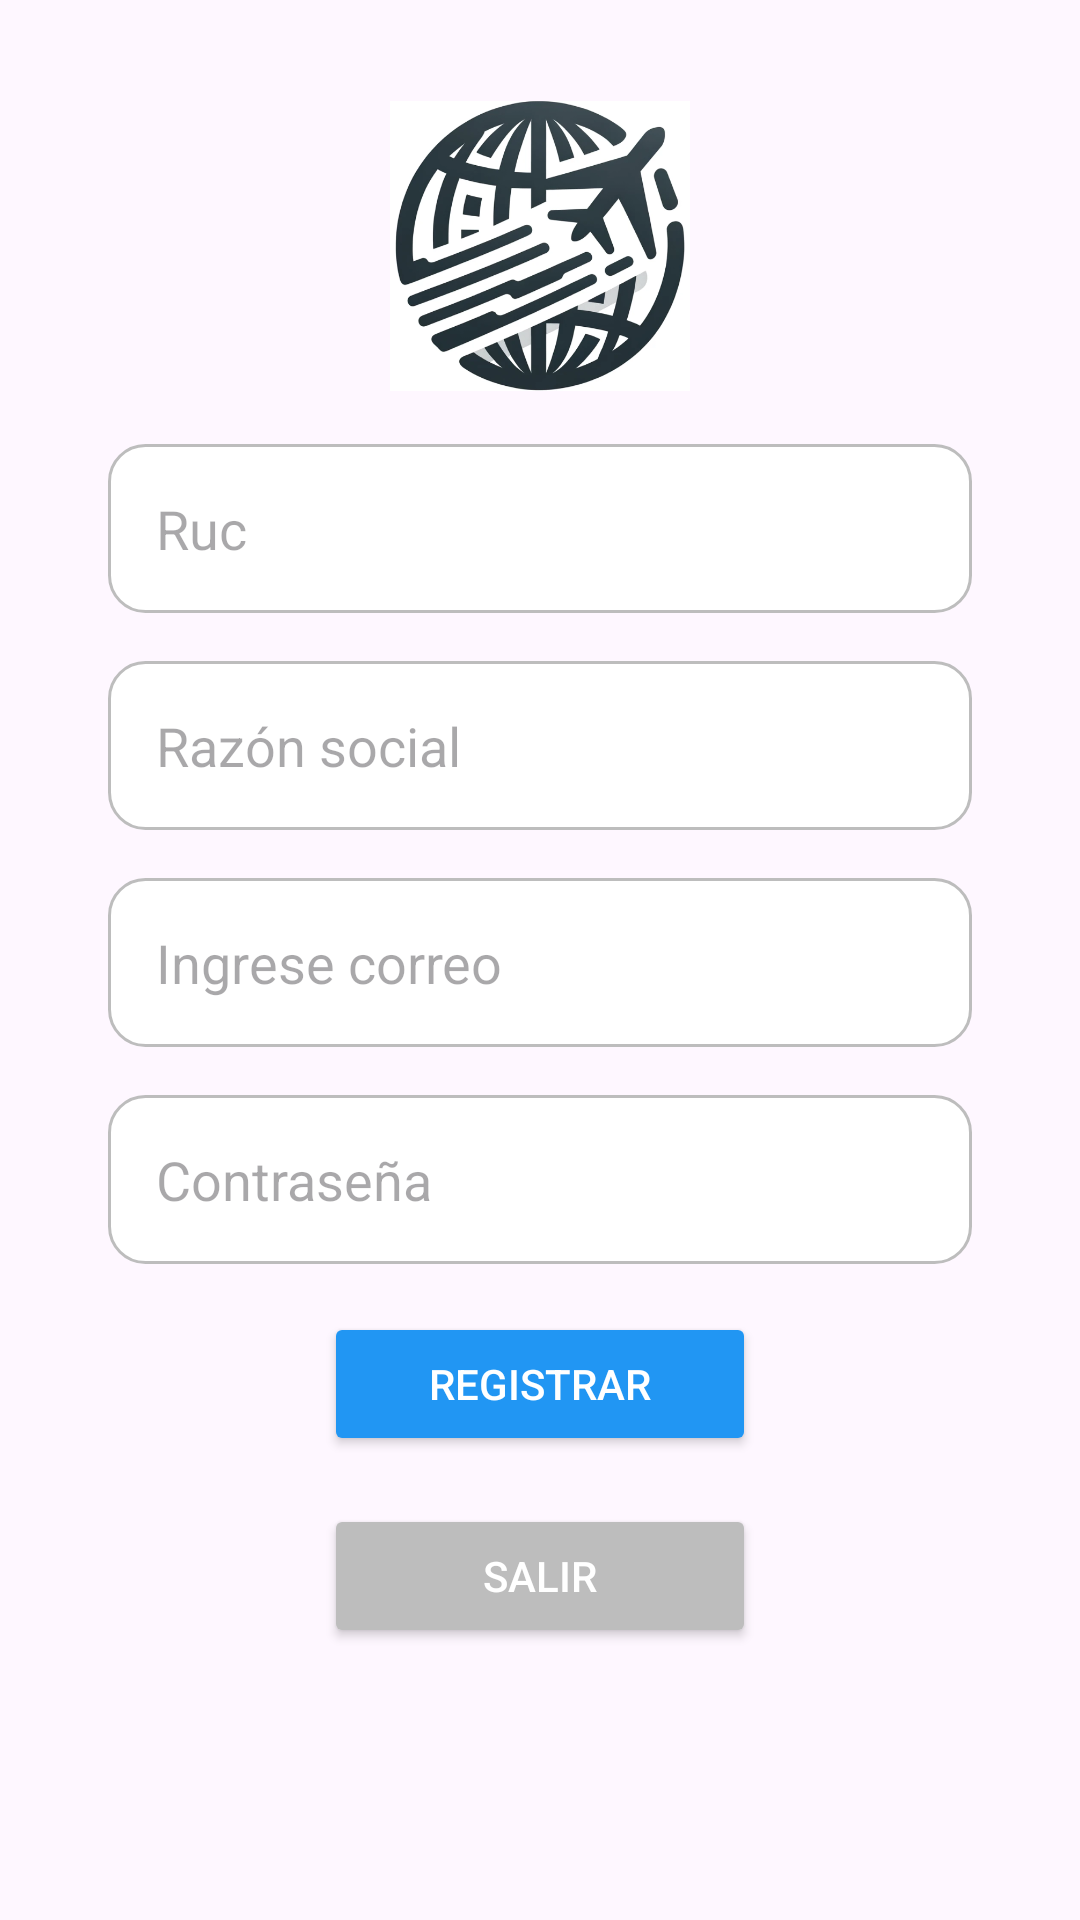

Icons on this 1080 × 1920 Android screen, each with the point to tap as point (x, y):
company: point (540, 246)
